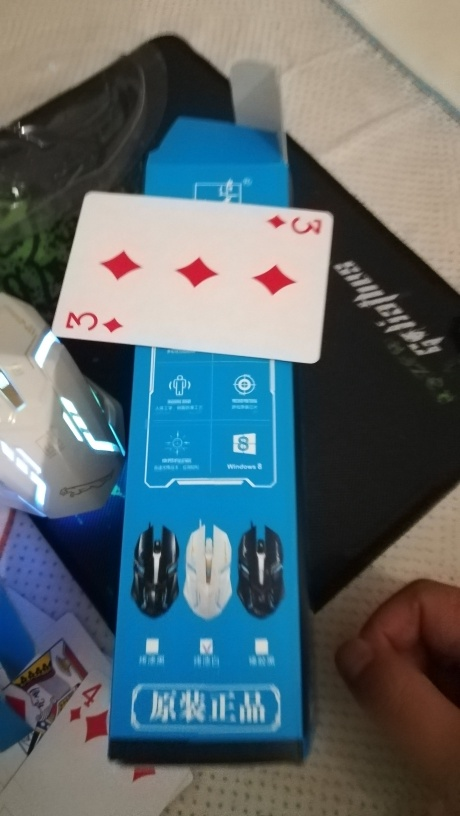fk 3: (49, 185, 336, 367)
